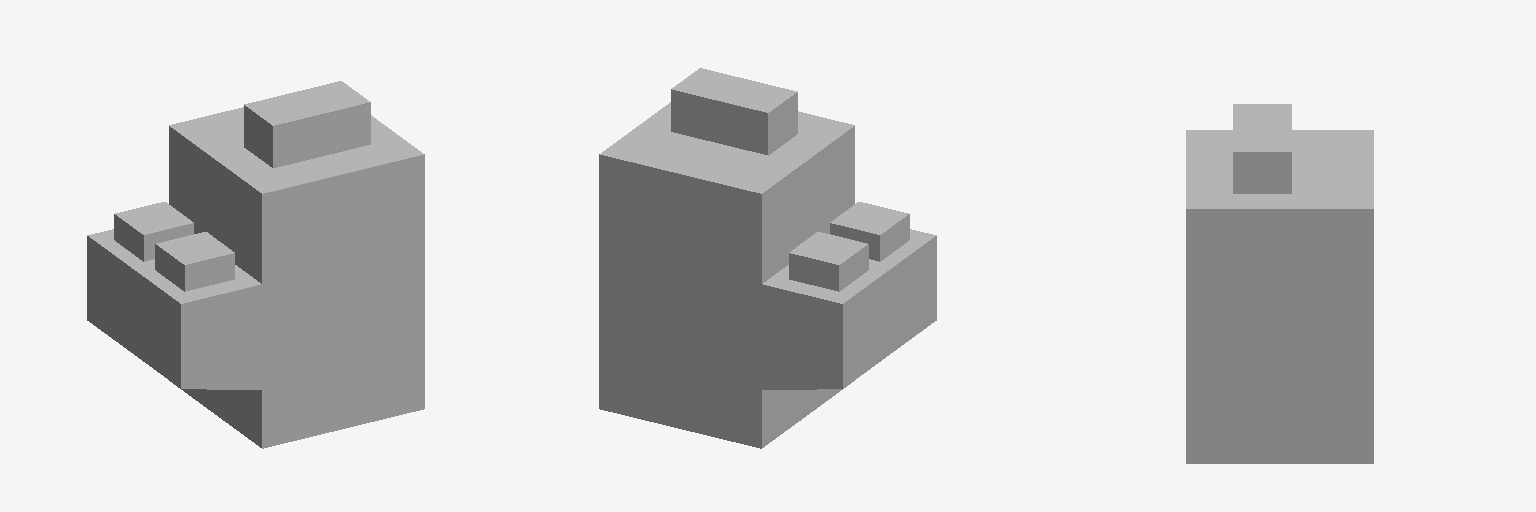
Rendered from um_photolithography_machine.obj.
The picture shows the model from 3 angles: view 1: azimuth 30°, elevation 25°; view 2: azimuth 150°, elevation 25°; view 3: azimuth 270°, elevation 25°; orthographic projection.
Visible parts, largest first — view 1: cube; view 2: cube; view 3: cube.
Boxes of the visible parts, box(x1,y1,x2,y2) form: cube: box(87, 81, 424, 448); cube: box(599, 68, 936, 448); cube: box(1186, 104, 1373, 463).
Bounding box in the file's own units: 3 × 3.5 × 2.